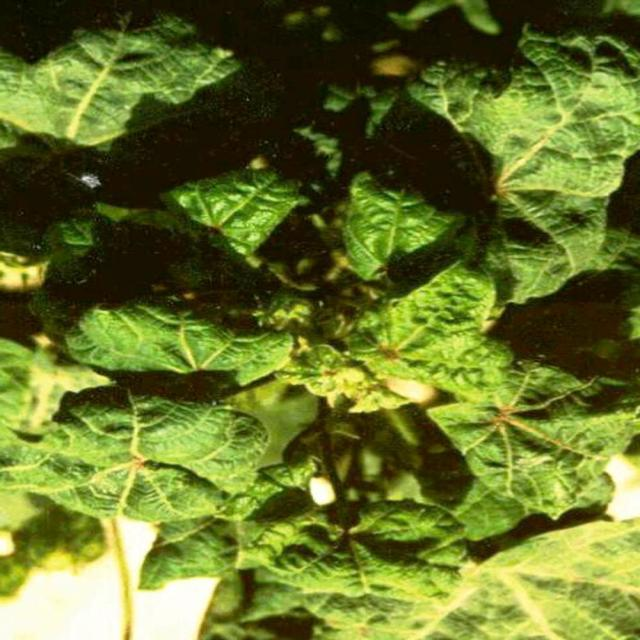Leaf Curl Virus: (51, 86, 588, 610)
